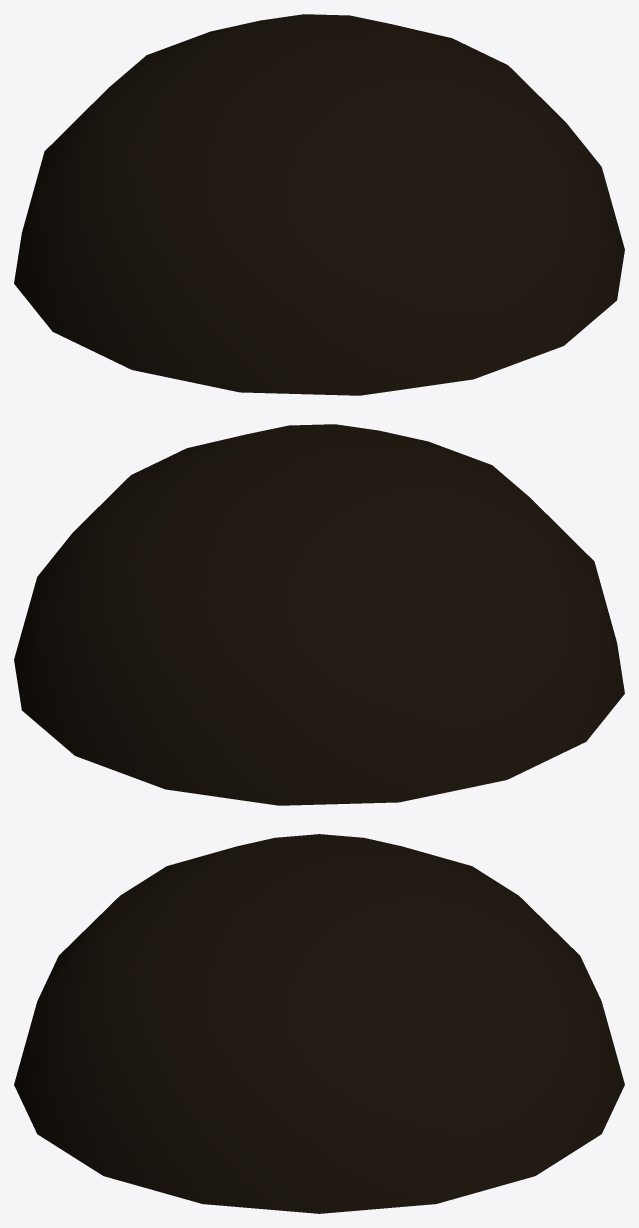
The model's file is CB_SKYBOX_CLOUD01.fbx.
3 renders of one model, top to bottom at view 1: azimuth 30°, elevation 25°; view 2: azimuth 150°, elevation 25°; view 3: azimuth 270°, elevation 25°, orthographic.
Parts seen in each view (by area): view 1: CB_SKYBOX_CLOUD01; view 2: CB_SKYBOX_CLOUD01; view 3: CB_SKYBOX_CLOUD01.
Part boxes in pixels (x1,y1,x2,y2): CB_SKYBOX_CLOUD01: (14, 14, 624, 395); CB_SKYBOX_CLOUD01: (14, 424, 624, 805); CB_SKYBOX_CLOUD01: (14, 834, 624, 1213).
Size of the model in its own units: 56797 by 23110 by 56797.
Materials: 4 (4 with a texture image).
